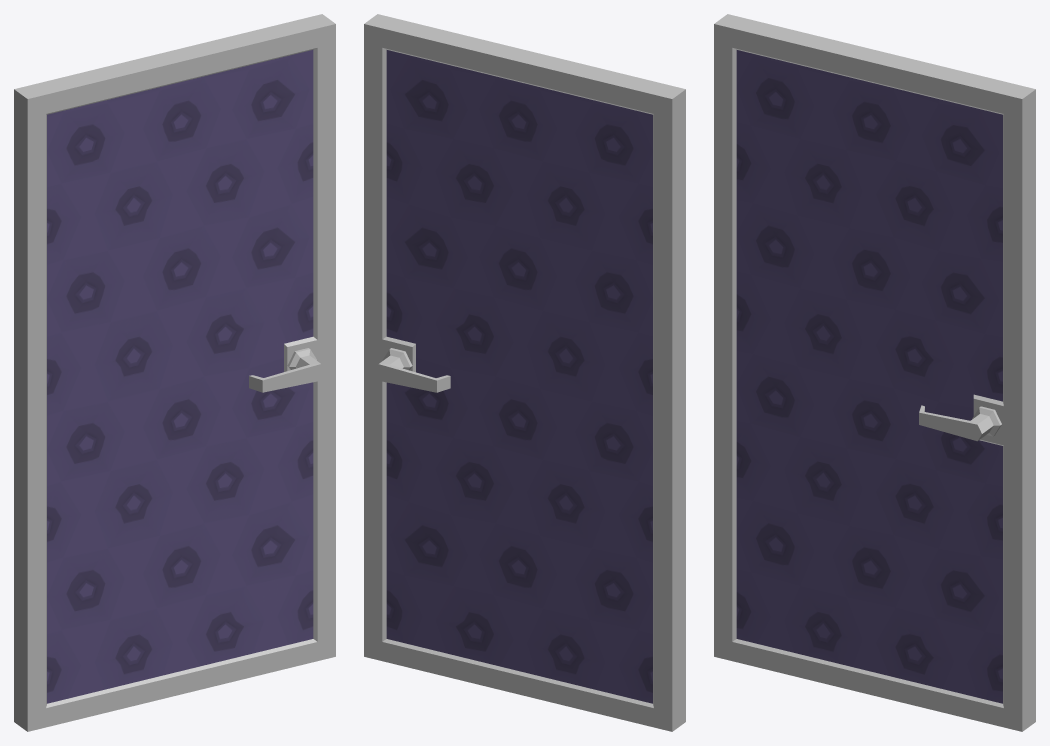
Rendered from SM_Bld_Door_01.fbx.
3 renders of one model, left to right at view 1: azimuth 30°, elevation 25°; view 2: azimuth 150°, elevation 25°; view 3: azimuth 330°, elevation 25°, orthographic.
Parts seen in each view (by area): view 1: SM_Bld_Door_01; view 2: SM_Bld_Door_01; view 3: SM_Bld_Door_01.
Boxes of the visible parts, box(x1,y1,x2,y2) form: SM_Bld_Door_01: box(14, 14, 335, 731); SM_Bld_Door_01: box(364, 14, 685, 731); SM_Bld_Door_01: box(714, 14, 1035, 731).
Size of the model in its own units: 100 by 197 by 24.73.
